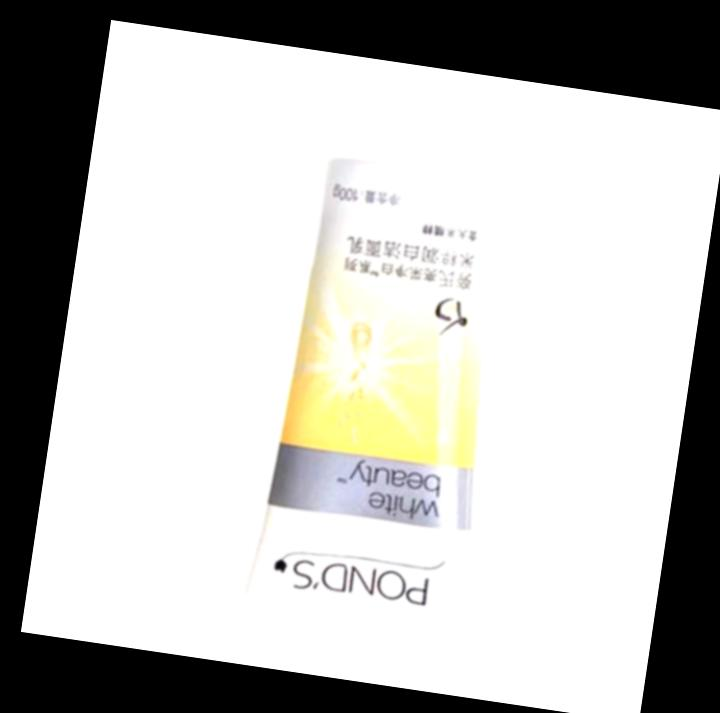cosmetic: (233, 72, 550, 669)
